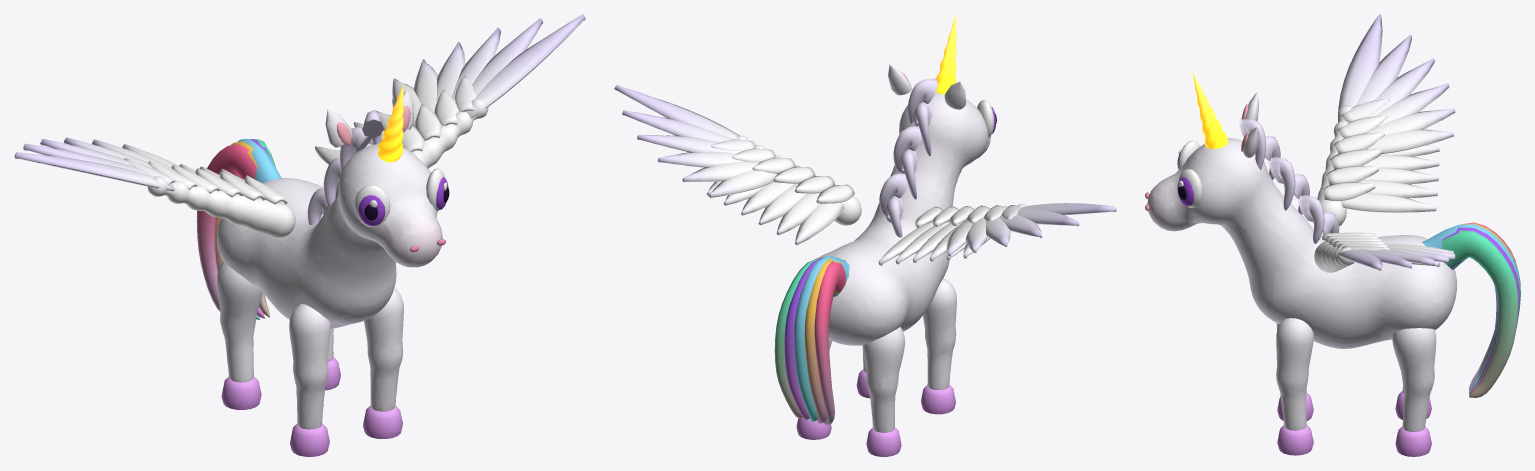
Rendered from unicornio.glb.
3 views of the same model, side by side, from view 1: azimuth 30°, elevation 25°; view 2: azimuth 150°, elevation 25°; view 3: azimuth 270°, elevation 25° (orthographic). The views are drawn at different scales.
Parts seen in each view (by area): view 1: body, wing 1, wing 0, leg 2, leg 0, leg 3, Cola 0, eyes, Cuerno, Cola 2, Mechón 3, Mechón 1; view 2: body, wing 1, wing 0, leg 0, leg 2, Cola 0, Cola 2, Cola 1, Cola 3, Cola 4, Cuerno, Mechón 0 (+6 smaller); view 3: body, wing 0, leg 3, leg 1, Cola 4, wing 1, eyes, Cola 2, Cuerno, Mechón 2, Cola 3, Mechón 4 (+1 smaller).
Part boxes in pixels (box(x1,y1,x2,y2)): body: box(217, 90, 445, 328); wing 1: box(315, 14, 585, 168); wing 0: box(14, 137, 295, 238); leg 2: box(289, 304, 330, 456); leg 0: box(217, 261, 262, 409); leg 3: box(363, 288, 403, 438); Cola 0: box(196, 144, 256, 311); eyes: box(354, 168, 449, 226); Cuerno: box(378, 85, 403, 162); Cola 2: box(238, 138, 281, 319); Mechón 3: box(323, 157, 341, 207); Mechón 1: box(340, 127, 371, 171); body: box(814, 64, 990, 345); wing 1: box(614, 85, 861, 245); wing 0: box(878, 203, 1116, 265); leg 0: box(862, 327, 905, 456); leg 2: box(921, 278, 956, 414); Cola 0: box(814, 260, 845, 425); Cola 2: box(794, 256, 849, 421); Cola 1: box(804, 258, 844, 423); Cola 3: box(784, 257, 823, 419); Cola 4: box(774, 258, 820, 418); Cuerno: box(936, 14, 956, 94); Mechón 0: box(907, 78, 937, 123); body: box(1145, 92, 1456, 348); wing 0: box(1317, 14, 1455, 226); leg 3: box(1276, 318, 1313, 455); leg 1: box(1392, 328, 1436, 456); Cola 4: box(1441, 230, 1518, 397); wing 1: box(1314, 232, 1455, 272); eyes: box(1177, 140, 1202, 208); Cola 2: box(1422, 224, 1520, 392); Cuerno: box(1192, 72, 1228, 148); Mechón 2: box(1268, 157, 1295, 210); Cola 3: box(1442, 227, 1519, 395); Mechón 4: box(1298, 195, 1324, 243).
Size of the model in its own units: 7.18 by 4.78 by 4.52.
